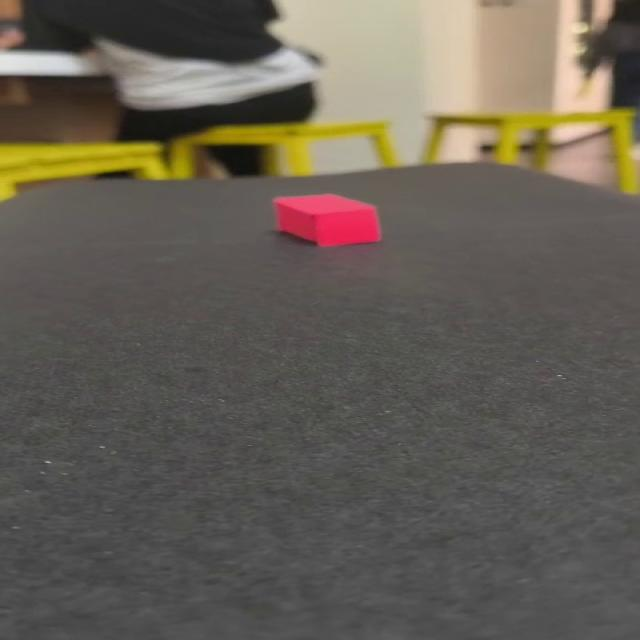red block: (272, 192, 381, 247)
